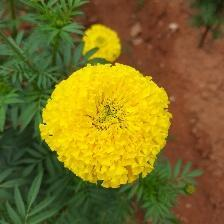marigold: (41, 64, 174, 192)
